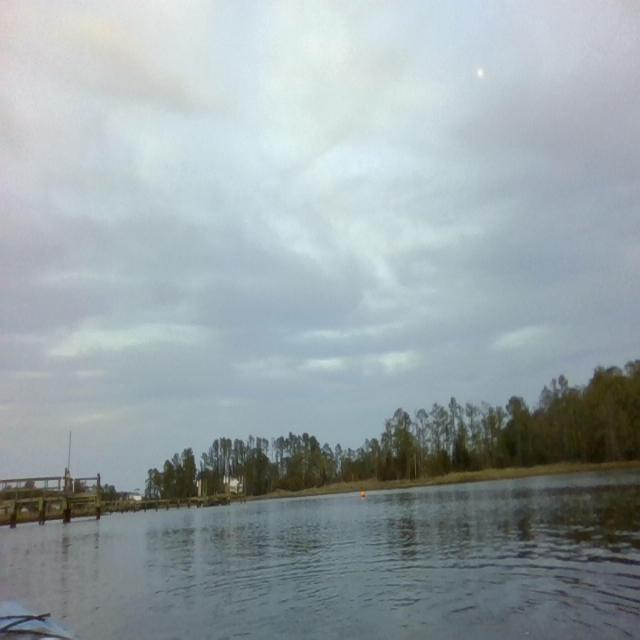Buoy: (360, 490, 366, 499)
